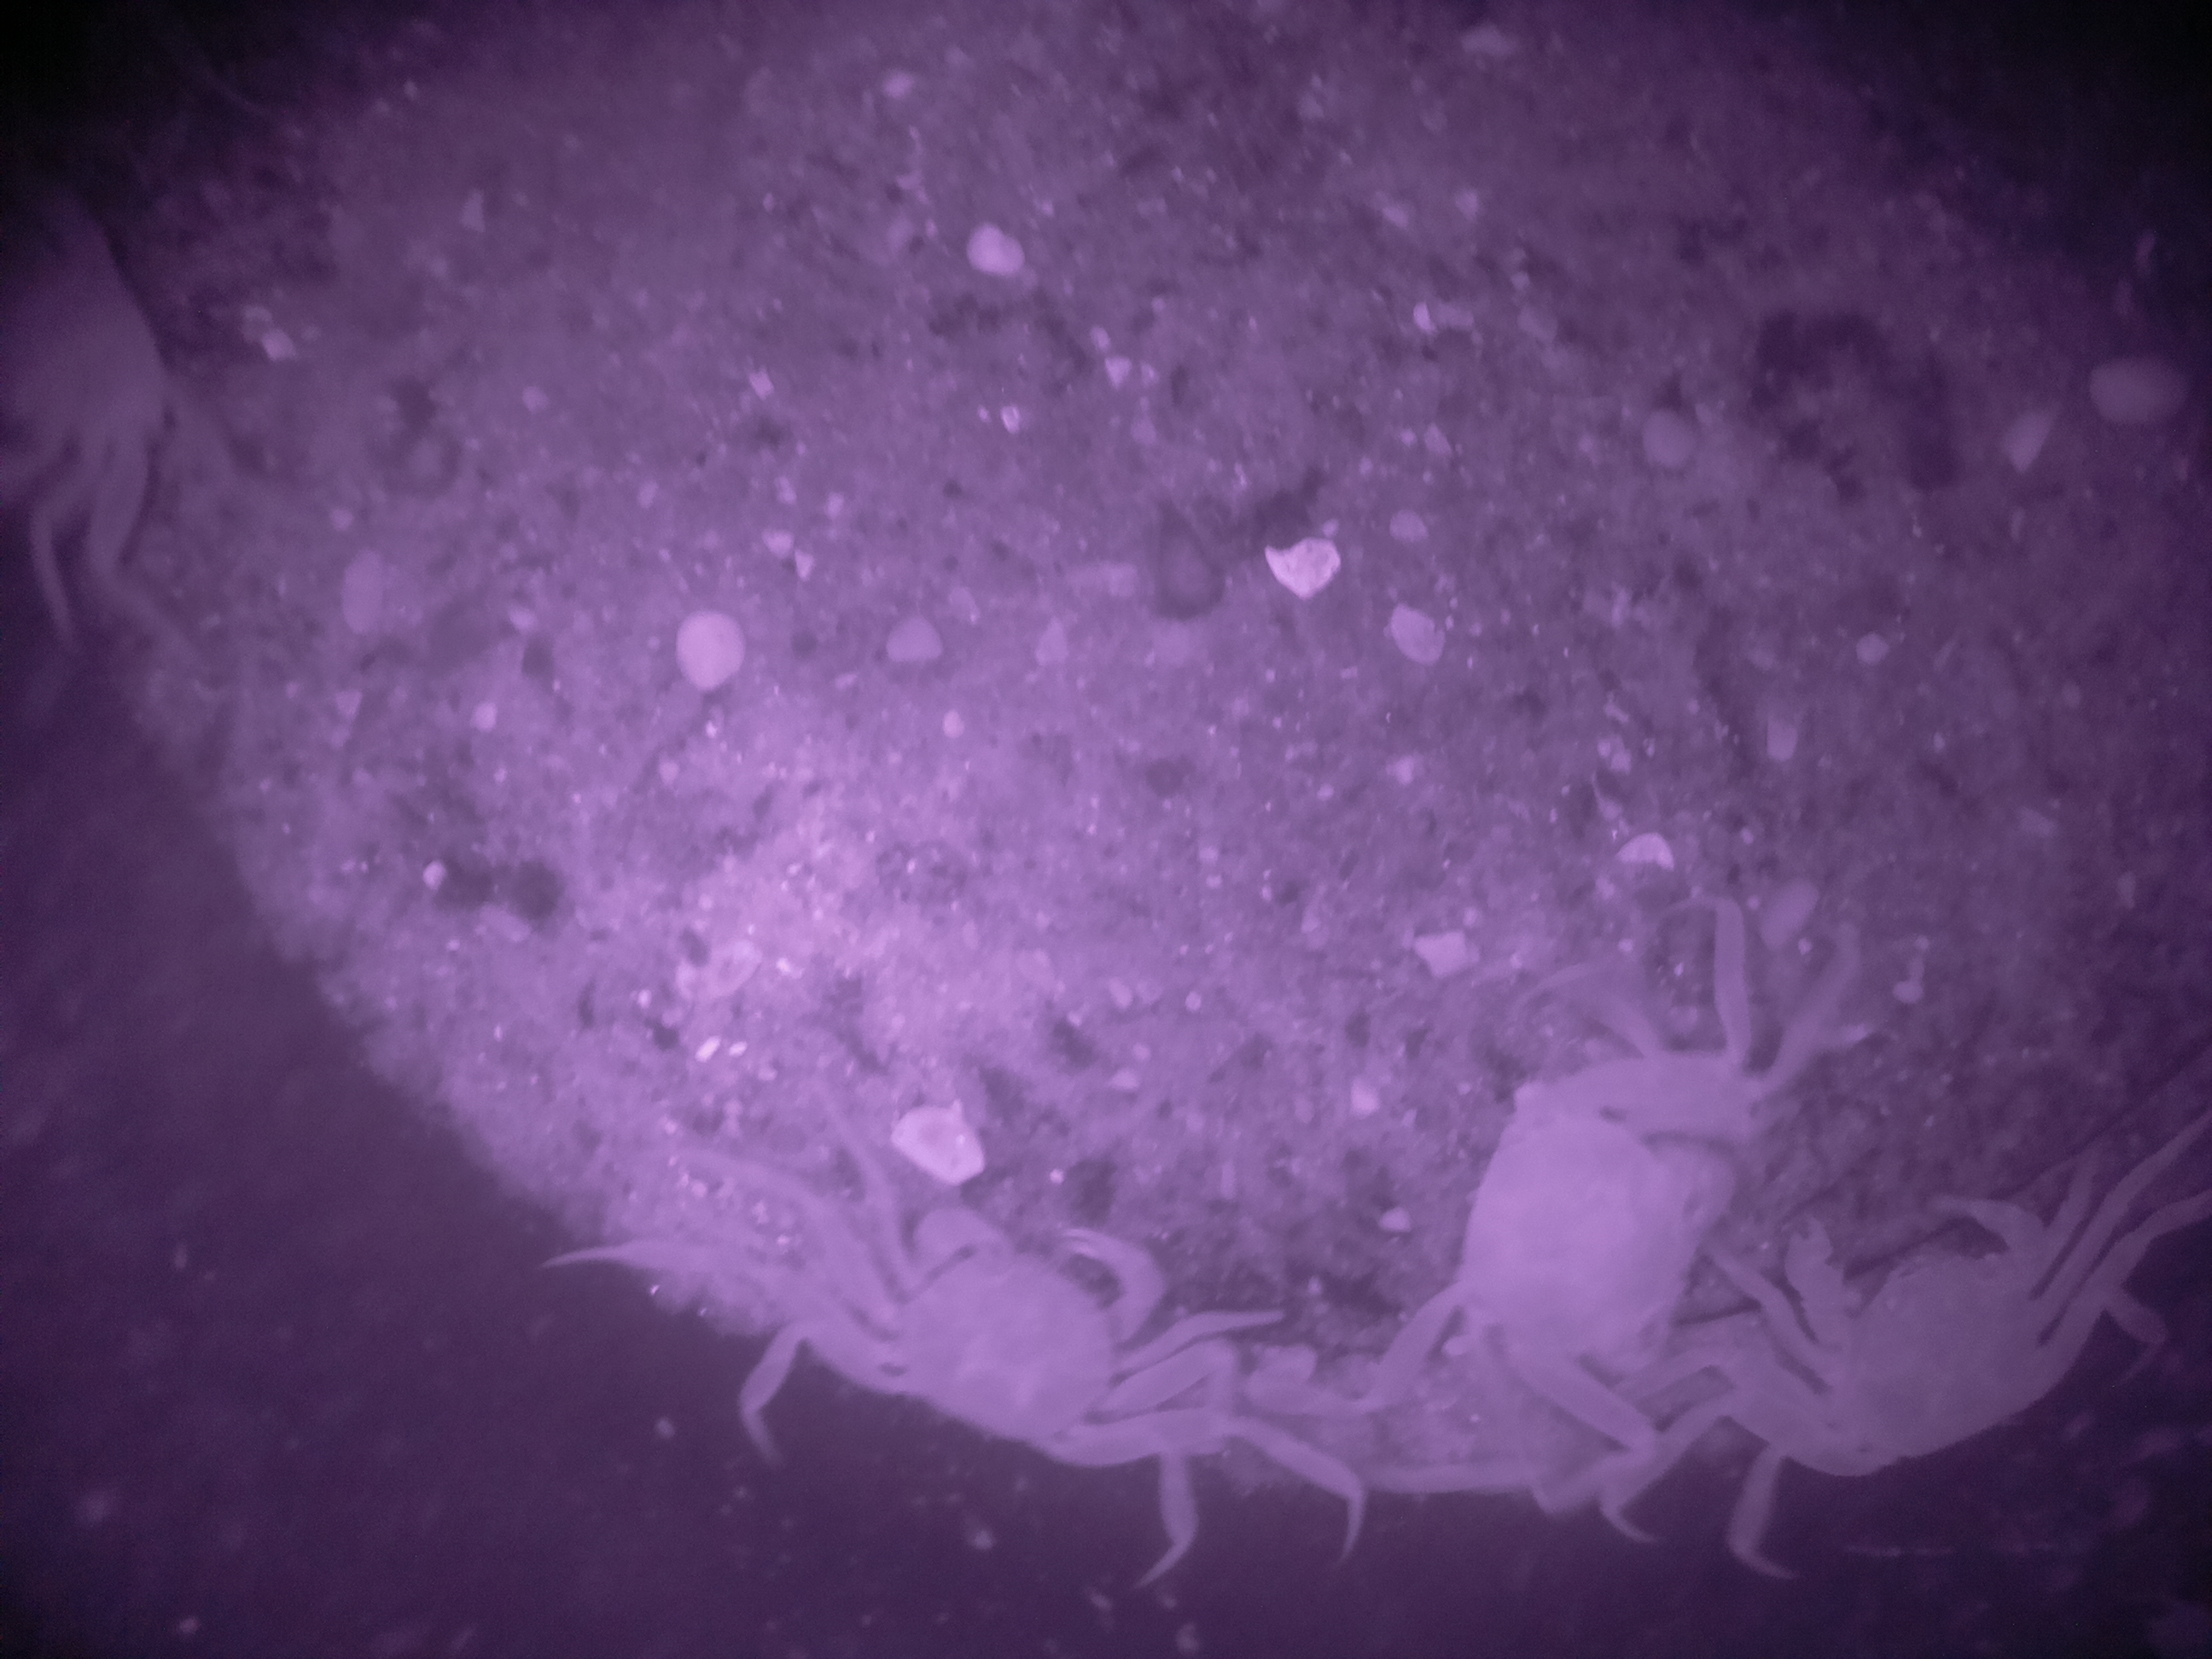Crab: (798, 1086, 1292, 1586), (1433, 971, 1770, 1595), (1689, 1098, 2137, 1539)
